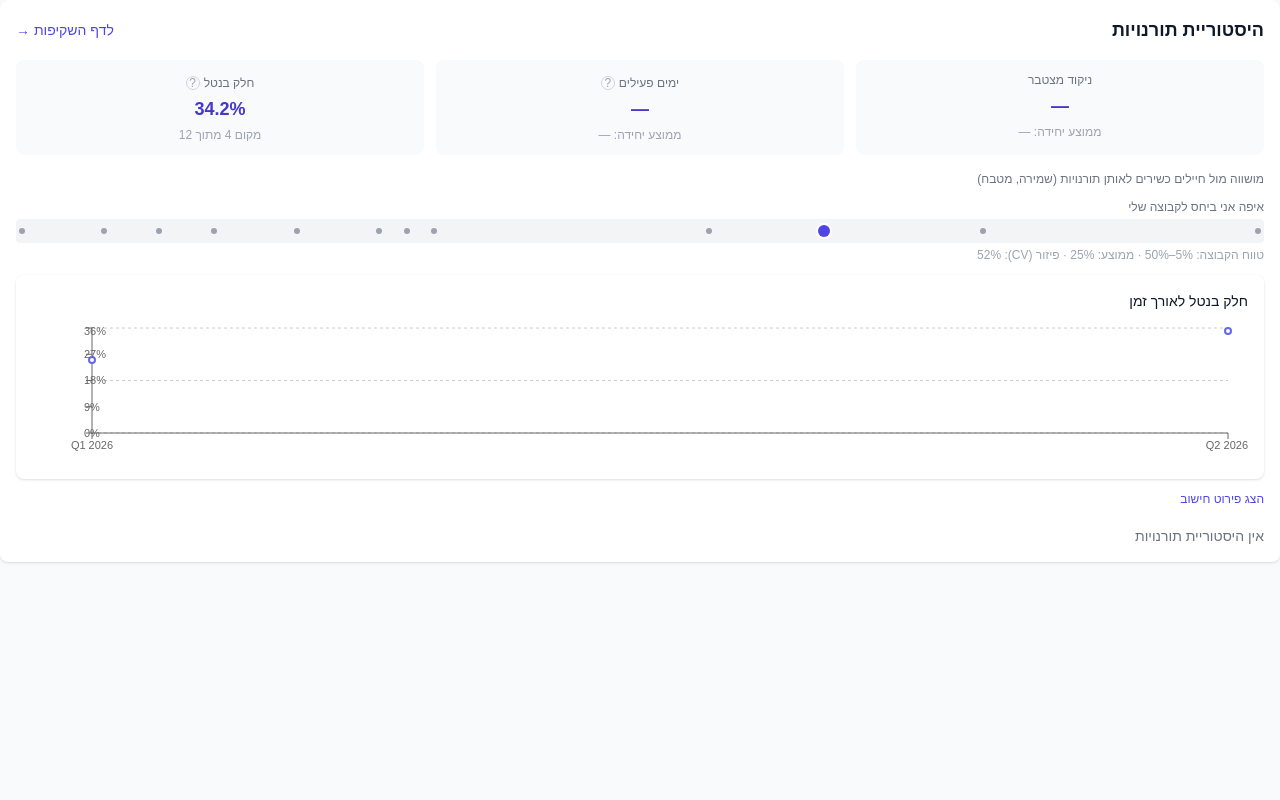
Test: DutyHistoryWidget › identifies the soldier's highlighted dot when hovered
Step 1. Hover over the element with test id "burden-dot-me" → {"x": 824, "y": 231}, box [818,225,830,237]
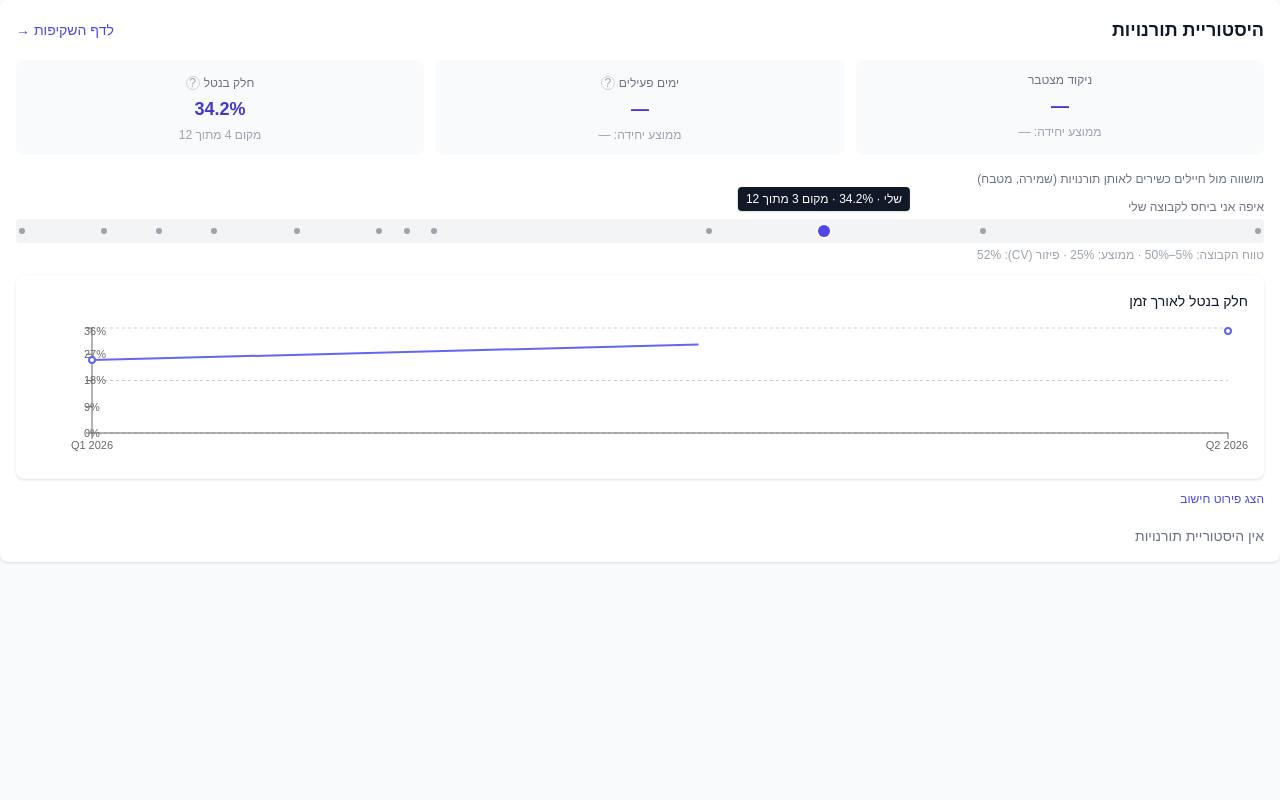
Result: the message shows "שלי" at [873,192,902,206]
Result: the message shows "34.2%" at [738,187,910,211]
